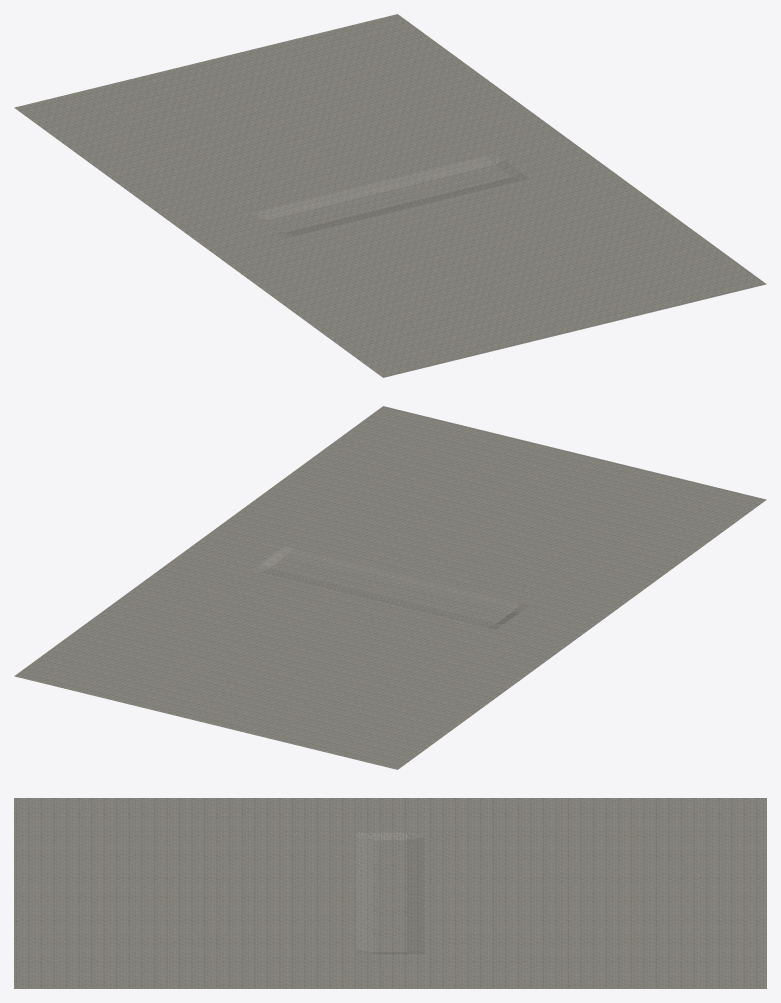
The model's file is atrio_explanada.obj.
The picture shows the model from 3 angles, top to bottom: view 1: azimuth 30°, elevation 25°; view 2: azimuth 150°, elevation 25°; view 3: azimuth 270°, elevation 25°; orthographic projection.
Parts seen in each view (by area): view 1: Plano; view 2: Plano; view 3: Plano.
Boxes of the visible parts, x1,y1,x2,y2 form: Plano: (14, 14, 766, 377); Plano: (14, 406, 766, 769); Plano: (14, 798, 766, 988).
Bounding box in the file's own units: 60 × 0.3684 × 100.
Materials: 1 (1 with a texture image).
